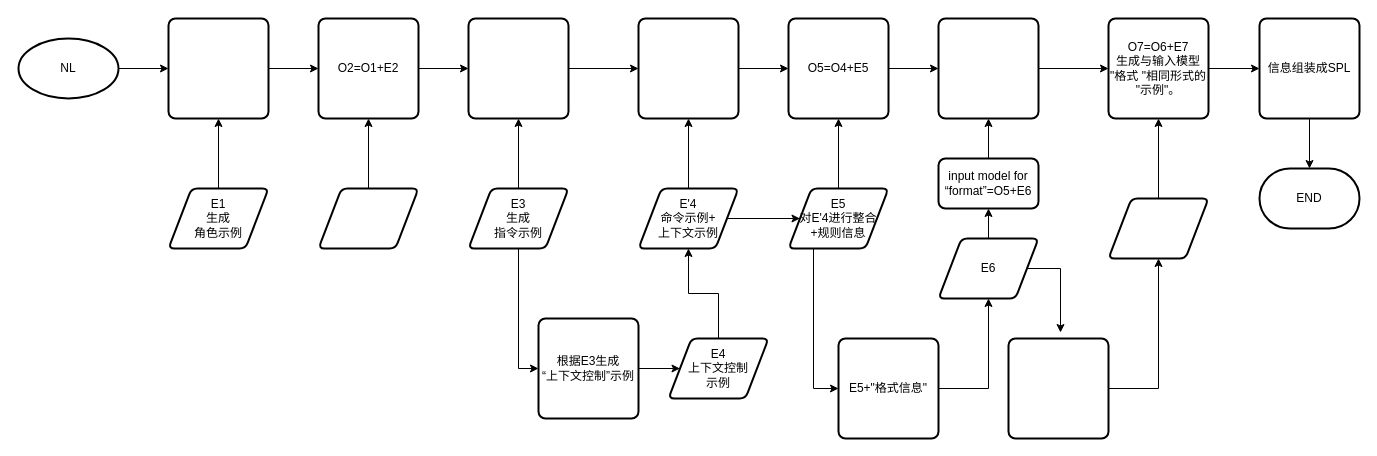
Image size: 1377x456. Some labels were removed from this diagram. Each missing label, with the centre of its shape:
E2 生成 受众示例: [368,218]
E6+"例子信息": [1058,388]
E7: [1158,228]
O1=E1+NL: [218,68]
O3=O2+E3: [518,68]
O4=O3+E'4: [688,68]
O6=O5+format: [988,68]
